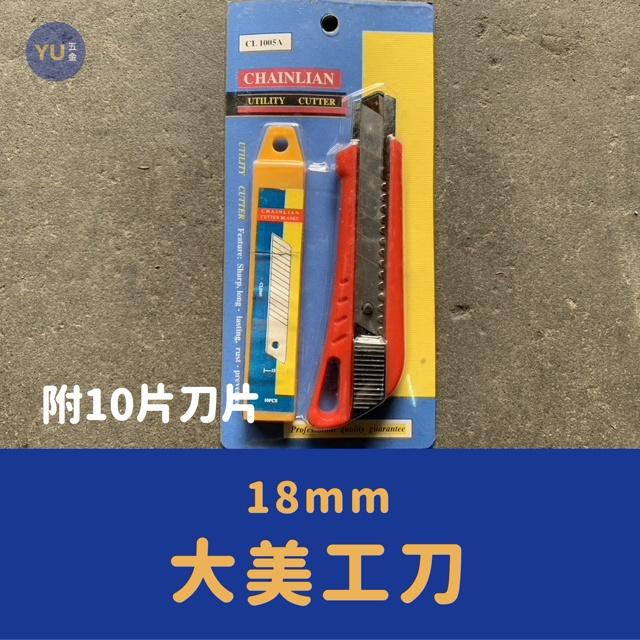cutter: (306, 92, 408, 429), (239, 122, 308, 425)
